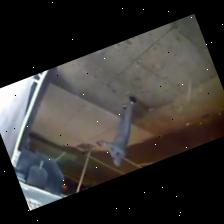person: (99, 95, 136, 165)
